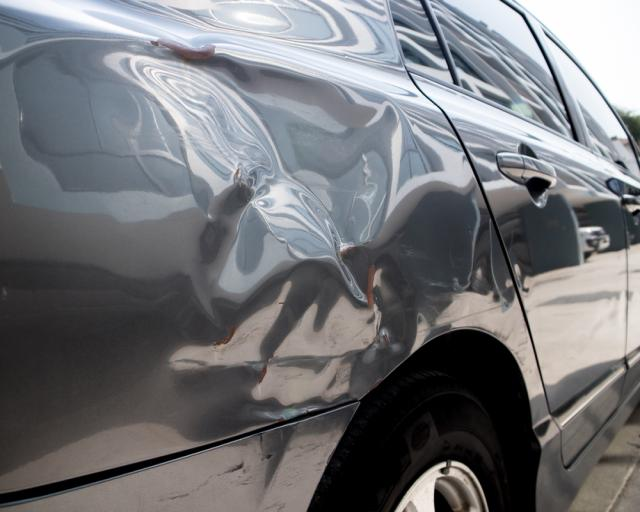dent: (94, 37, 475, 407)
